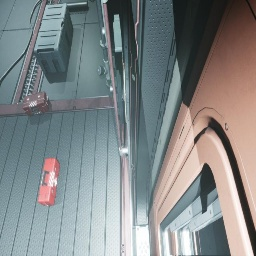EmergencyPhone ,: (121, 56, 127, 123)
FireAlarm ,: (123, 57, 124, 68)
FirstAidBox ,: (38, 158, 60, 206), (22, 92, 49, 116)
